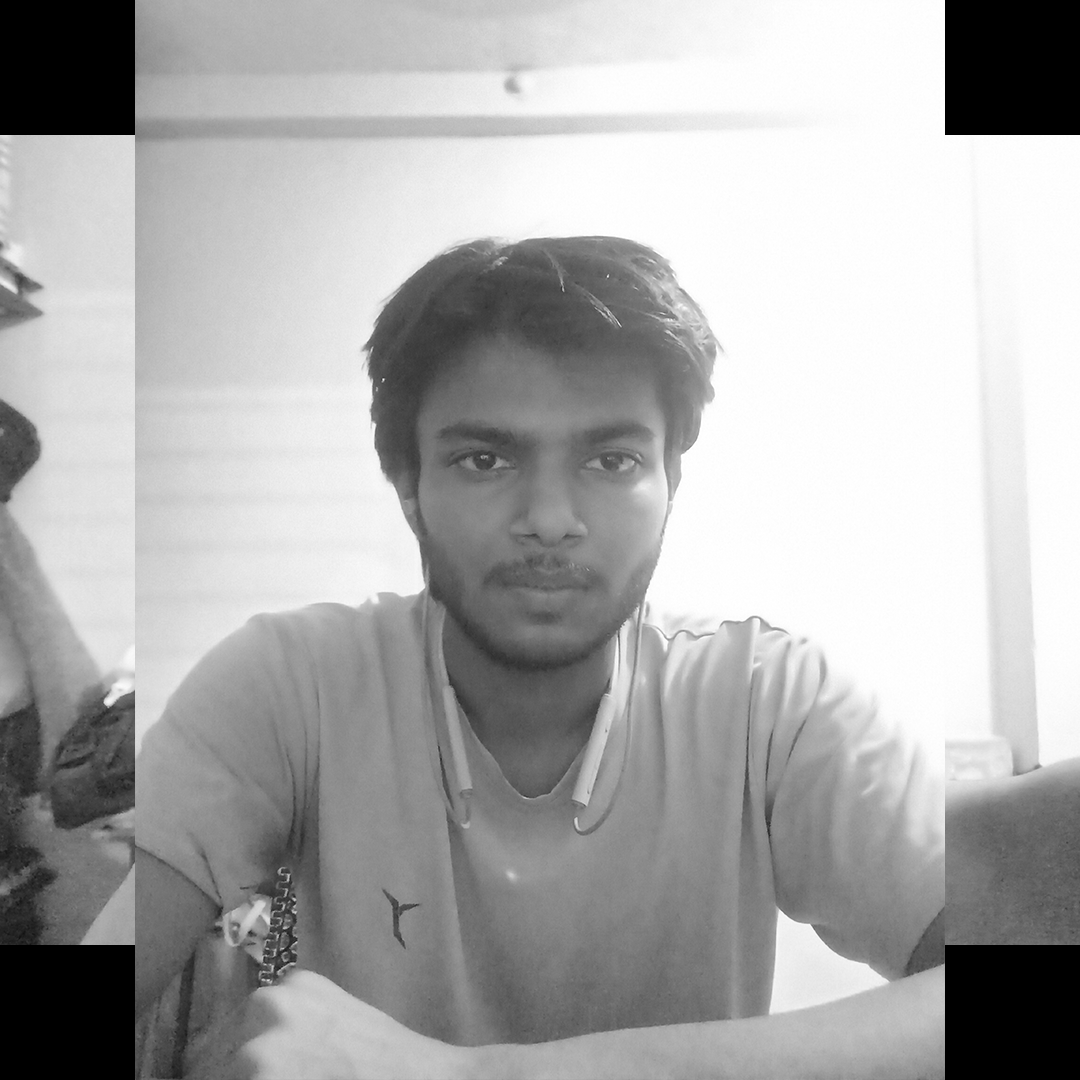Focused: (259, 159, 782, 842)
